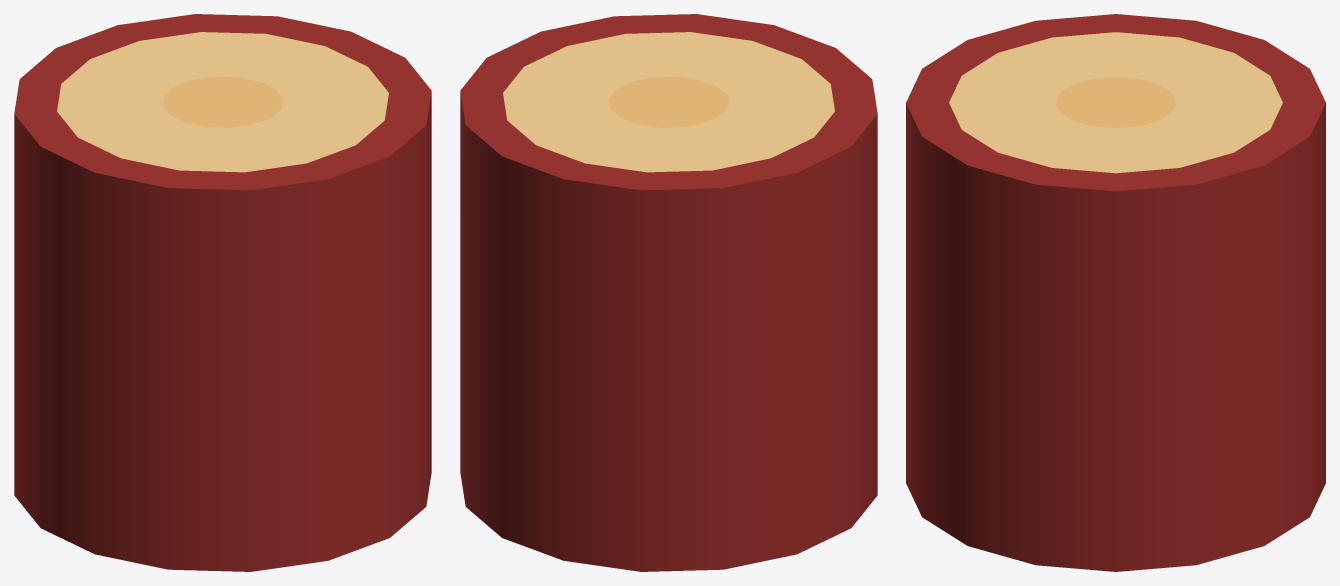
The model's file is Wood_Collect.fbx.
3 renders of one model, left to right at view 1: azimuth 30°, elevation 25°; view 2: azimuth 150°, elevation 25°; view 3: azimuth 270°, elevation 25°, orthographic.
Visible parts, largest first — view 1: Cylinder.001; view 2: Cylinder.001; view 3: Cylinder.001.
Part boxes in pixels (x1,y1,x2,y2): Cylinder.001: (14, 14, 431, 571); Cylinder.001: (460, 14, 877, 571); Cylinder.001: (906, 14, 1325, 571).
Bounding box in the file's own units: 200 × 200 × 200.
